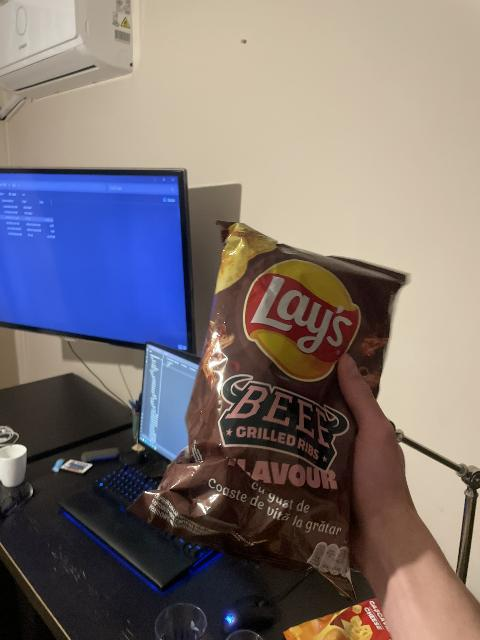Chio Cascaval 125g: (284, 597, 392, 640)
Lays Beef Grilled Ribs 125g: (120, 220, 406, 603)
